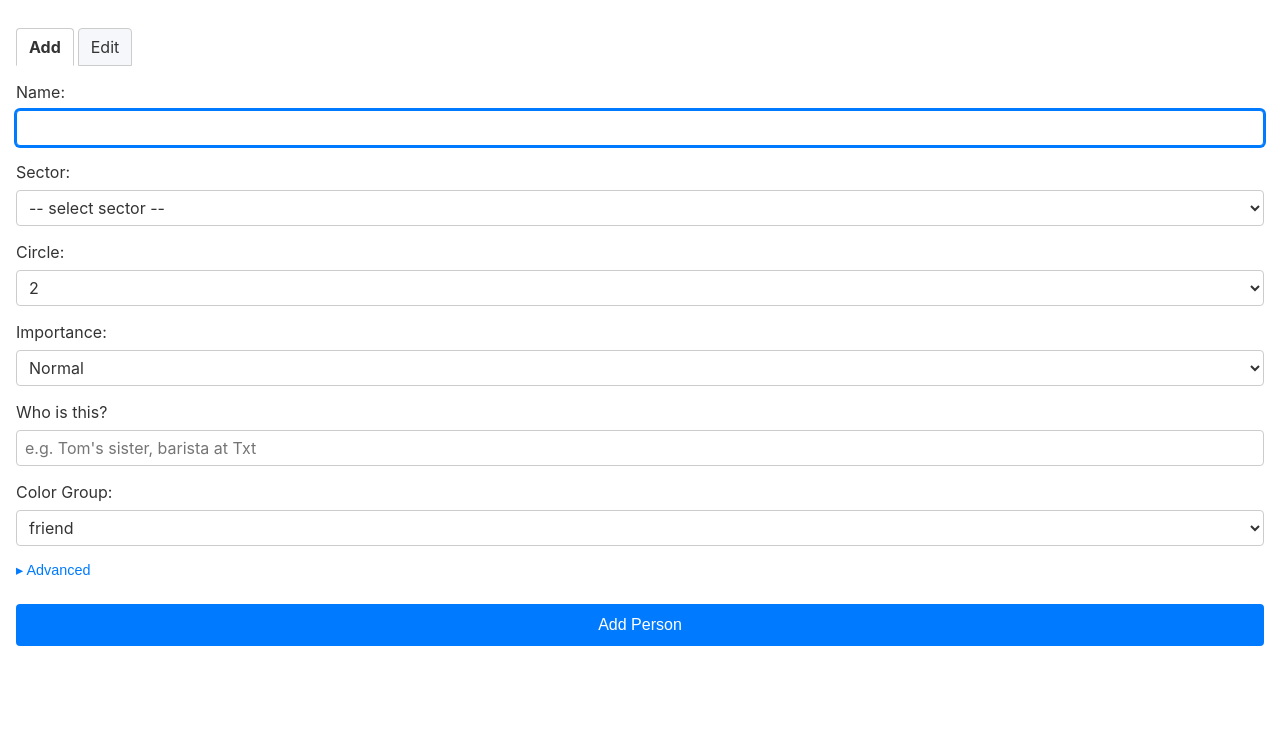
it: Edit person flow › auto-expands Advanced when the selected person has non-default values
Click the tab "Edit" at (105, 47), box [78, 28, 132, 66]
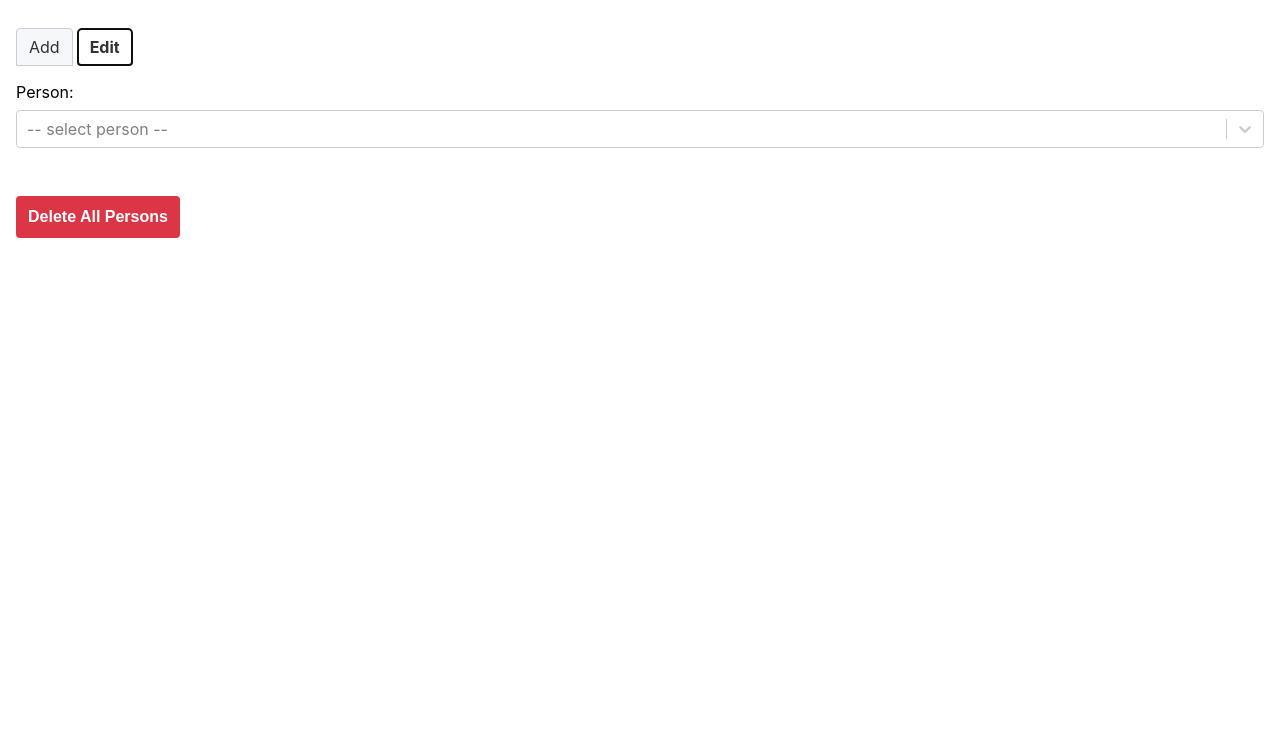
Note: Pick Mom from the react-select person picker.
Click the dropdown labelled "Person:" at (29, 129), box [27, 119, 32, 139]
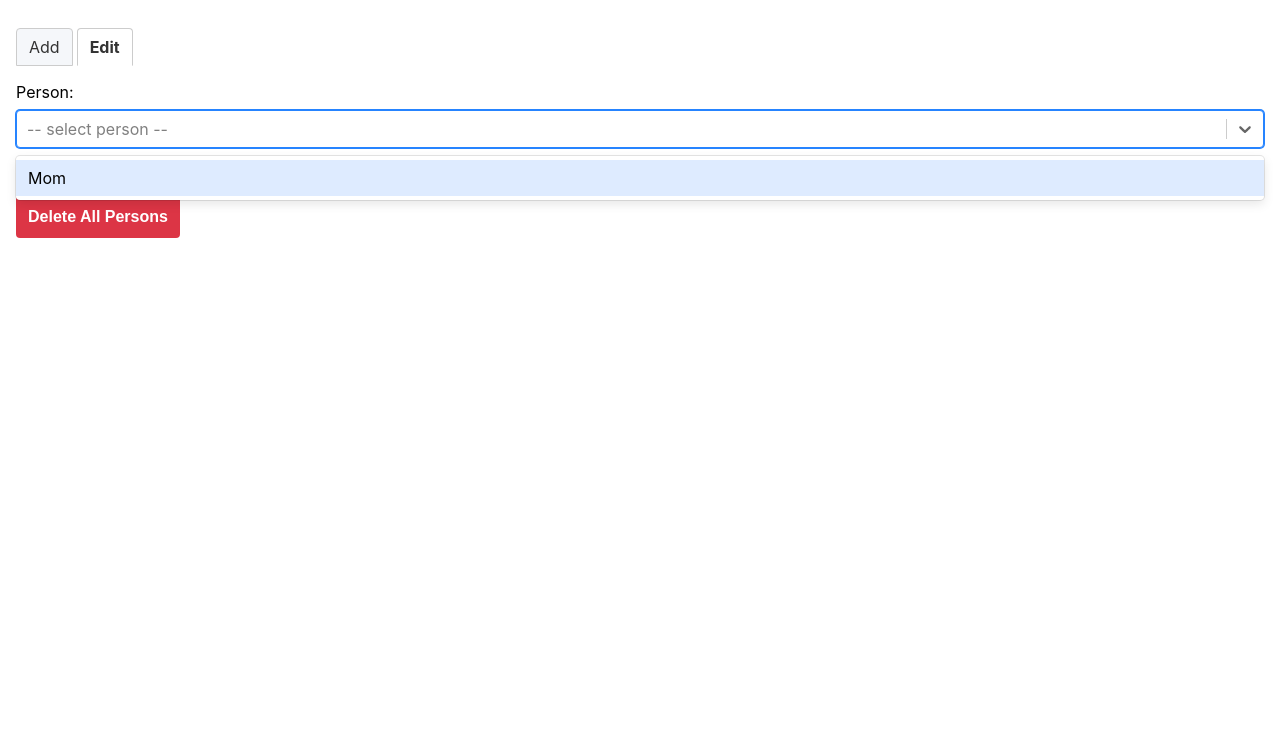
Press Arrowdown Enter
(page scrolled)
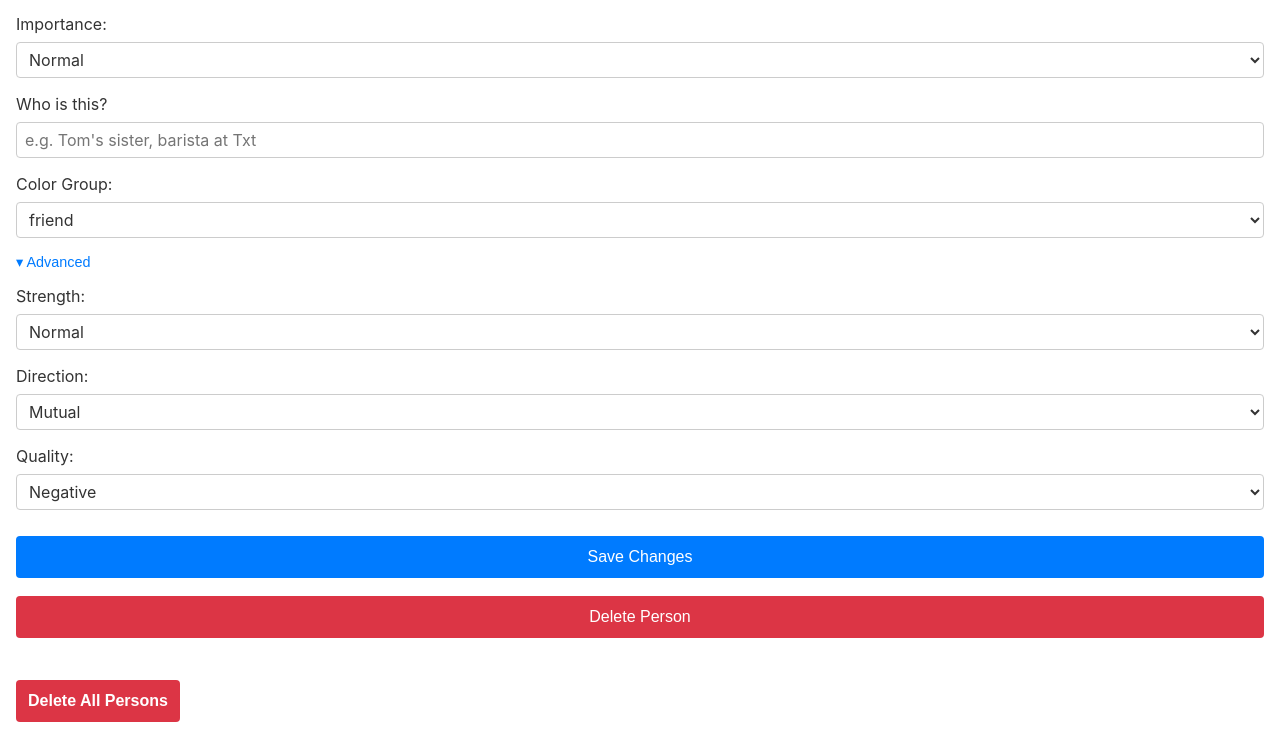
expect the dropdown labelled "Quality:" shows "Negative": met, box [16, 474, 1264, 510]
